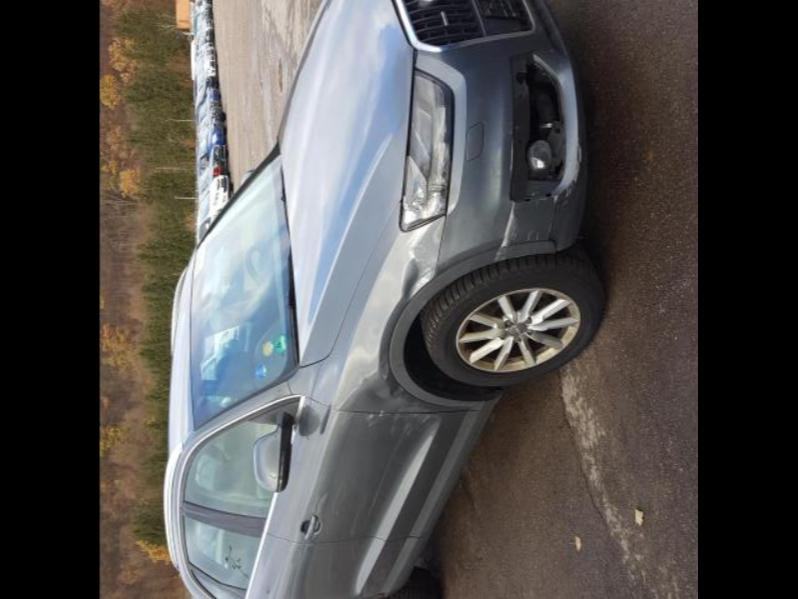Broken part: (510, 48, 578, 202), (400, 64, 456, 230), (390, 0, 418, 68)
Dent: (320, 346, 456, 446), (394, 203, 454, 302)
Missing part: (514, 66, 558, 194)
Paint chip: (494, 242, 536, 260)
Scratch: (498, 198, 558, 246), (554, 144, 582, 204), (366, 410, 386, 425), (390, 414, 402, 438), (418, 414, 432, 423)
